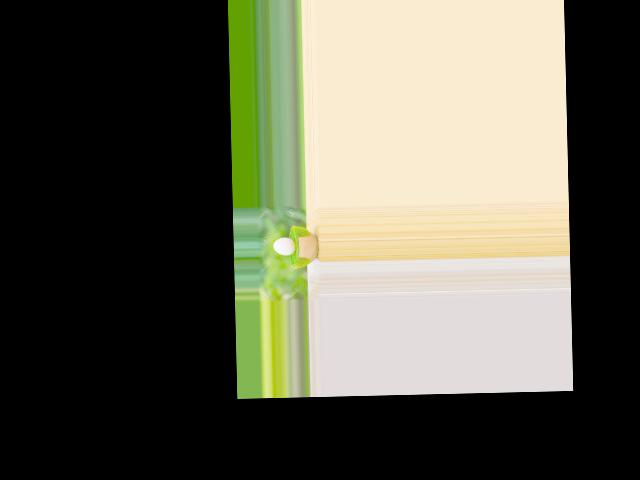egg: (273, 237, 296, 256)
